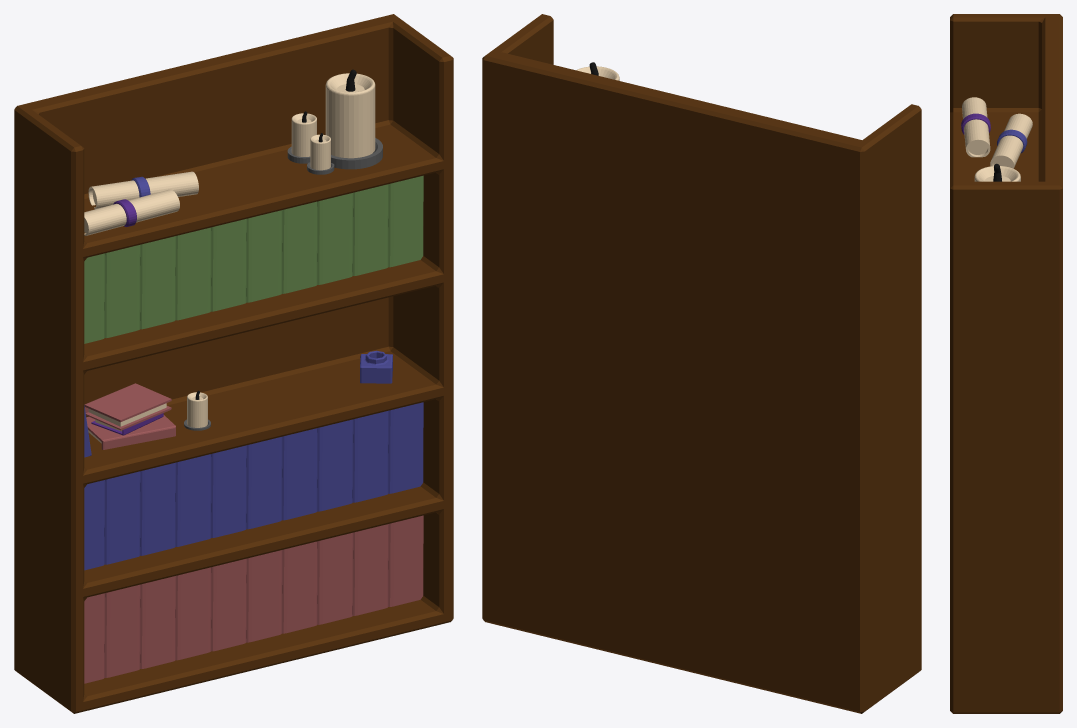
Rendered from Bookcase1.fbx.
The picture shows the model from 3 angles, left to right: view 1: azimuth 30°, elevation 25°; view 2: azimuth 150°, elevation 25°; view 3: azimuth 270°, elevation 25°; orthographic projection. The views are drawn at different scales.
Visible parts, largest first — view 1: Cube.002; view 2: Cube.002; view 3: Cube.002.
Part boxes in pixels (x1,y1,x2,y2): Cube.002: [14, 14, 453, 713]; Cube.002: [482, 14, 921, 713]; Cube.002: [950, 14, 1062, 713].
Size of the model in its own units: 474 by 671 by 130.
